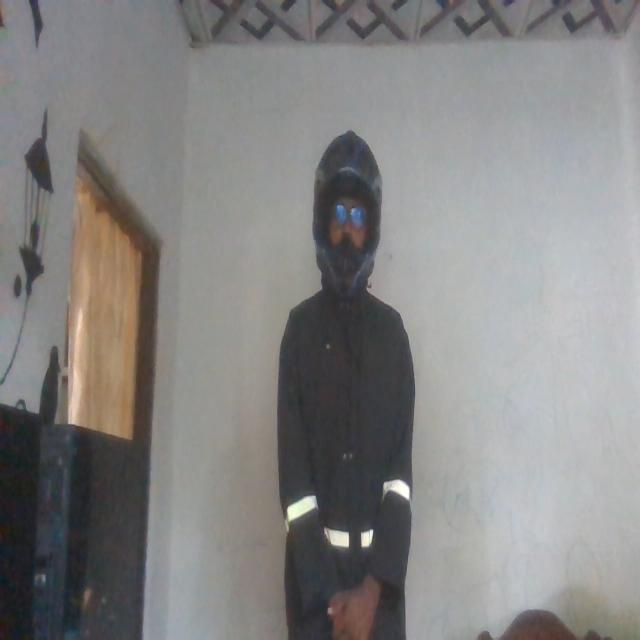Helmet_Wearer: (302, 118, 380, 302)
Jacket_Wearer: (278, 283, 417, 640)
Person: (278, 118, 420, 640)
